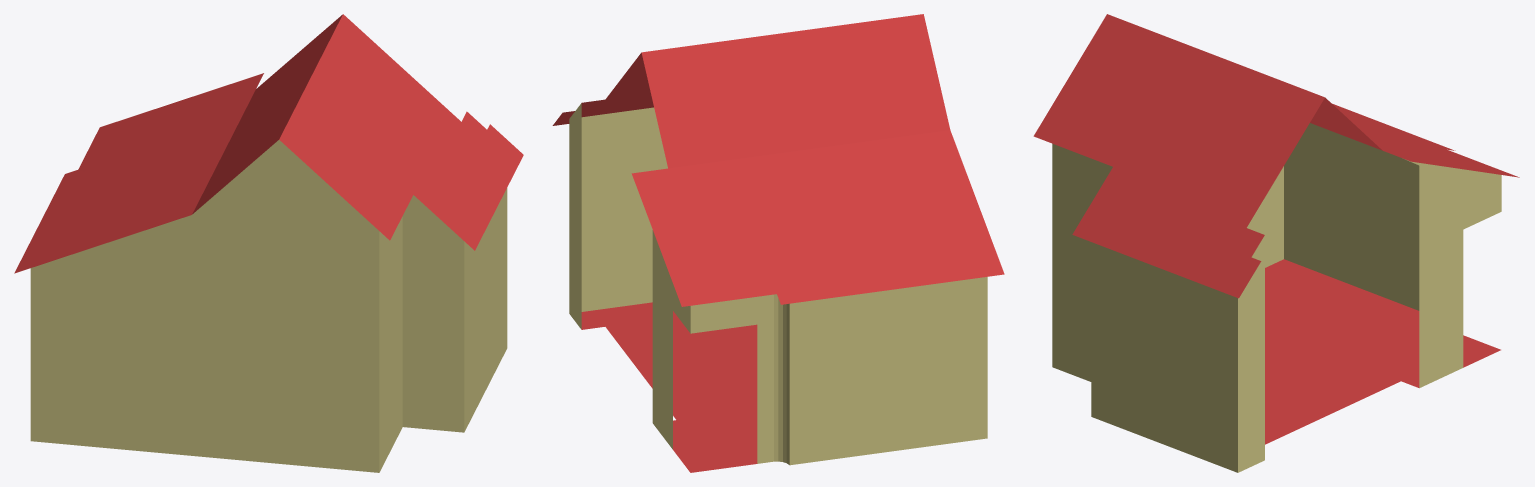
3 views of the same model, side by side, from view 1: azimuth 30°, elevation 25°; view 2: azimuth 150°, elevation 25°; view 3: azimuth 270°, elevation 25° (orthographic). The views are drawn at different scales.
Bounding box in the file's own units: 20.31 × 18.2 × 13.16.
